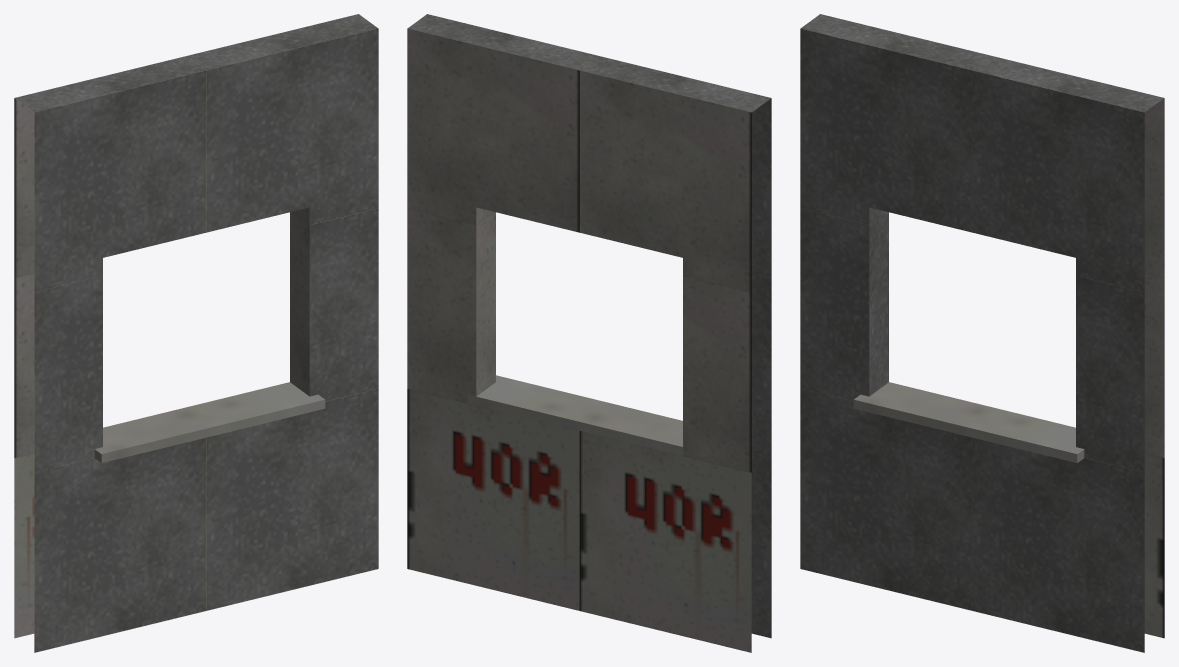
Rendered from wall_window_brick.fbx.
3 views of the same model, side by side, from view 1: azimuth 30°, elevation 25°; view 2: azimuth 150°, elevation 25°; view 3: azimuth 330°, elevation 25° (orthographic).
Visible parts, largest first — view 1: wall_window_brick; view 2: wall_window_brick; view 3: wall_window_brick.
Boxes of the visible parts, x1,y1,x2,y2 form: wall_window_brick: [14, 14, 378, 652]; wall_window_brick: [407, 14, 771, 652]; wall_window_brick: [800, 14, 1164, 652].
Bounding box in the file's own units: 2 × 3 × 0.27.
